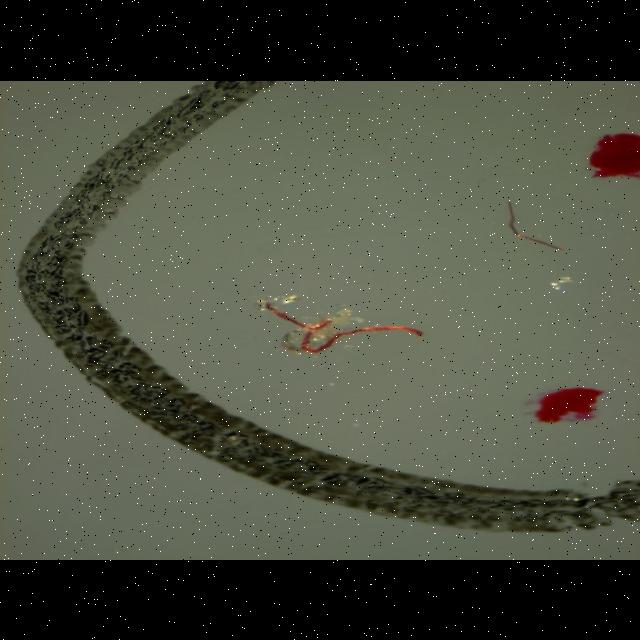Fibre: (248, 286, 450, 368), (484, 200, 580, 256)
